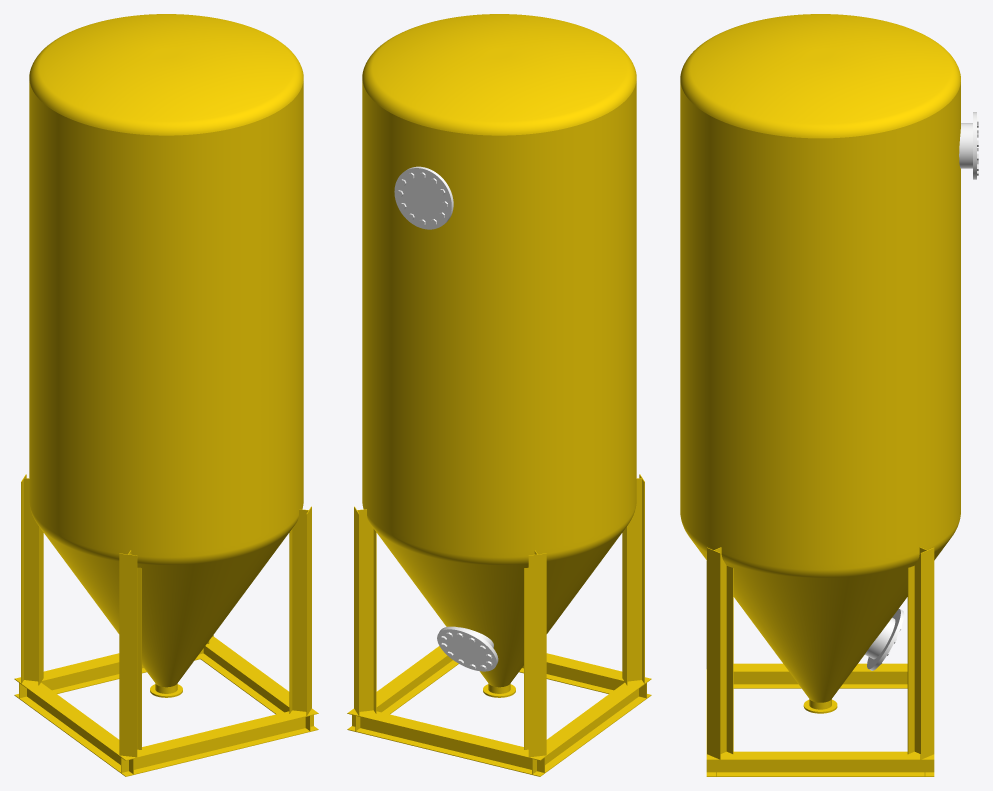
3 views of the same model, side by side, from view 1: azimuth 30°, elevation 25°; view 2: azimuth 150°, elevation 25°; view 3: azimuth 270°, elevation 25° (orthographic). The views are drawn at different scales.
Visible parts, largest first — view 1: mesh2_mesh2-geometry, mesh12_mesh12-geometry, mesh1_mesh1-geometry, mesh5_mesh5-geometry; view 2: mesh2_mesh2-geometry, mesh12_mesh12-geometry, mesh1_mesh1-geometry, mesh5_mesh5-geometry, mesh14_mesh14-geometry; view 3: mesh2_mesh2-geometry, mesh12_mesh12-geometry, mesh1_mesh1-geometry, mesh5_mesh5-geometry, mesh14_mesh14-geometry.
Boxes of the visible parts, bbox=[...] form: mesh2_mesh2-geometry: bbox=[29, 86, 303, 552]; mesh12_mesh12-geometry: bbox=[29, 14, 303, 141]; mesh1_mesh1-geometry: bbox=[14, 474, 318, 776]; mesh5_mesh5-geometry: bbox=[29, 497, 303, 687]; mesh2_mesh2-geometry: bbox=[362, 86, 636, 552]; mesh12_mesh12-geometry: bbox=[362, 14, 636, 141]; mesh1_mesh1-geometry: bbox=[347, 474, 651, 776]; mesh5_mesh5-geometry: bbox=[362, 497, 636, 687]; mesh14_mesh14-geometry: bbox=[394, 166, 498, 671]; mesh2_mesh2-geometry: bbox=[680, 88, 960, 564]; mesh12_mesh12-geometry: bbox=[680, 14, 960, 143]; mesh1_mesh1-geometry: bbox=[706, 547, 934, 776]; mesh5_mesh5-geometry: bbox=[680, 508, 960, 702]; mesh14_mesh14-geometry: bbox=[865, 112, 976, 670].
Bounding box in the file's own units: 0.3307 × 0.8758 × 0.3516.
